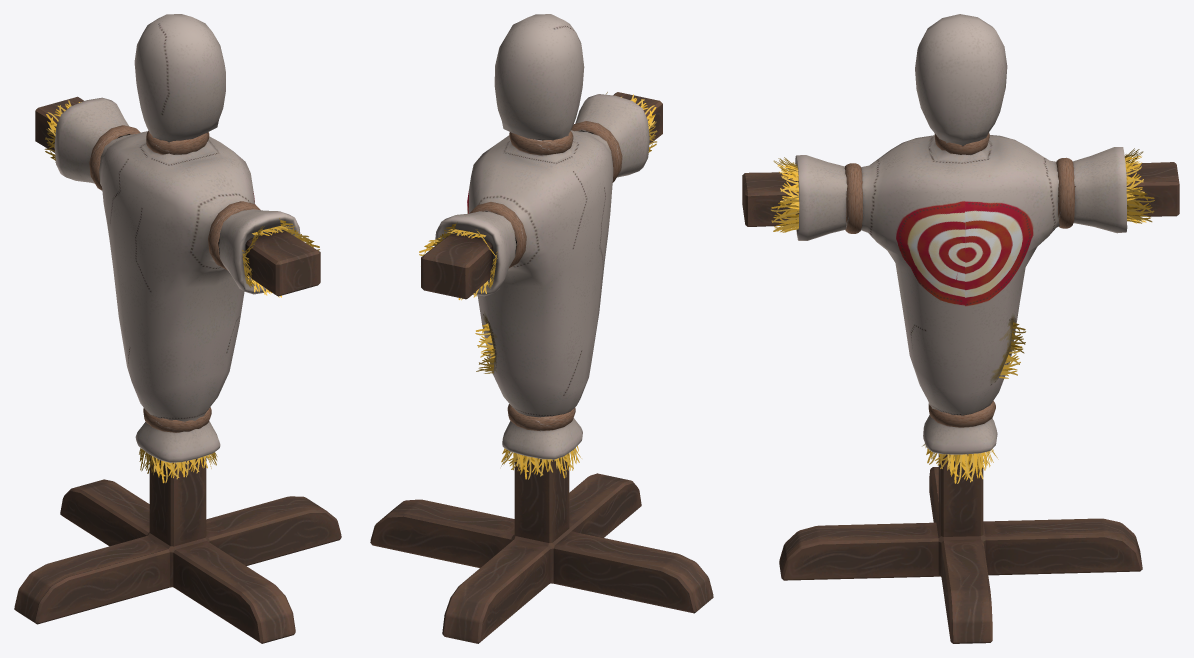
Rendered from dummy.fbx.
The picture shows the model from 3 angles, left to right: view 1: azimuth 30°, elevation 25°; view 2: azimuth 150°, elevation 25°; view 3: azimuth 270°, elevation 25°; orthographic projection.
Parts seen in each view (by area): view 1: pTorus6, pPlane4 2; view 2: pTorus6, pPlane6 2; view 3: pTorus6, pPlane3 2, pPlane3 1, pPlane3.
Part boxes in pixels (left/top/right/bottom): pTorus6: left=14, top=14, right=341, bottom=643; pPlane4 2: left=152, top=456, right=189, bottom=483; pTorus6: left=370, top=14, right=713, bottom=643; pPlane6 2: left=517, top=453, right=555, bottom=479; pTorus6: left=742, top=14, right=1179, bottom=643; pPlane3 2: left=947, top=452, right=986, bottom=483; pPlane3 1: left=771, top=196, right=799, bottom=232; pPlane3: left=1126, top=188, right=1154, bottom=223.
Bounding box in the file's own units: 0.8608 × 1.44 × 1.03.
Materials: 2 (2 with a texture image).
